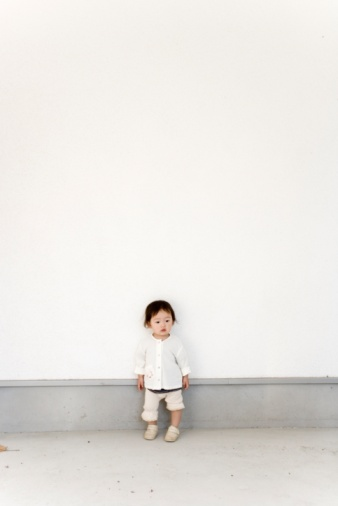em pe: (122, 302, 186, 444)
